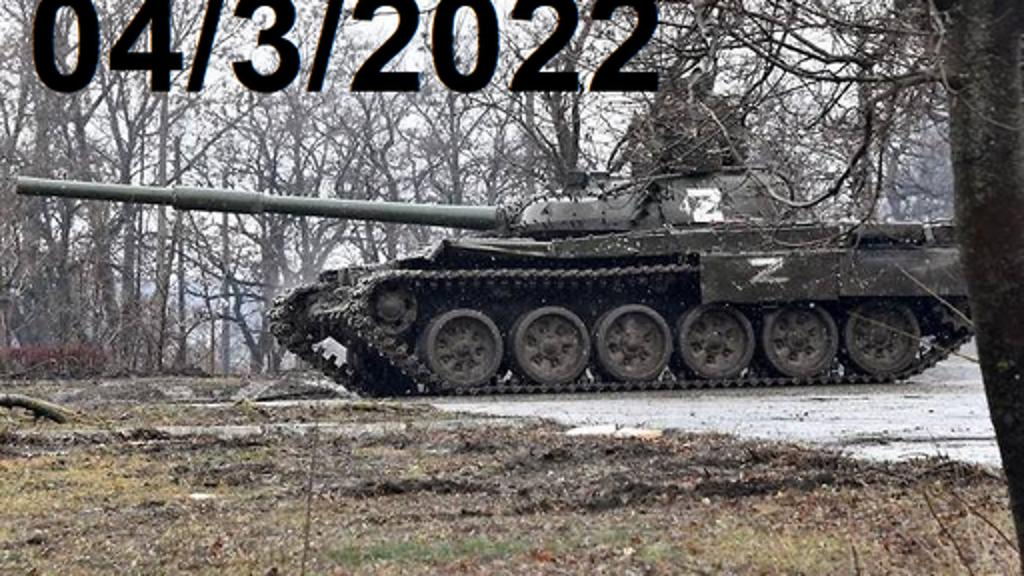TANK: (0, 152, 986, 400)
